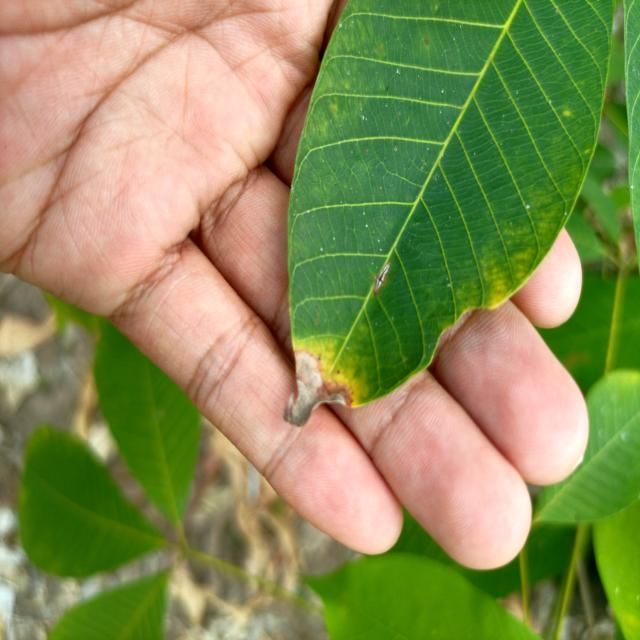Leaf-Blight: (283, 350, 347, 428)
